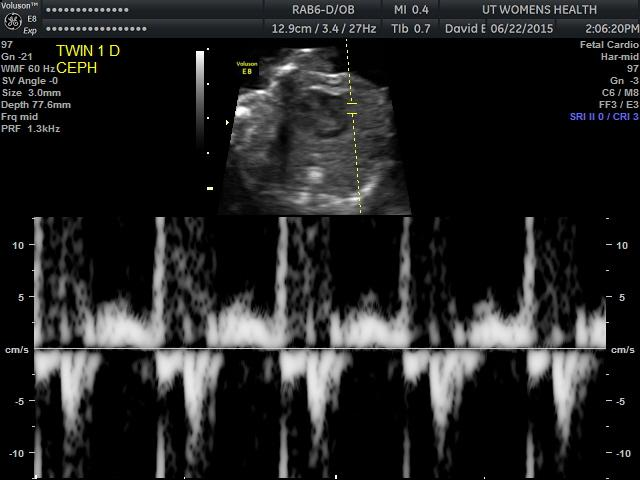Ultrasound-Waves: (34, 219, 604, 476)
